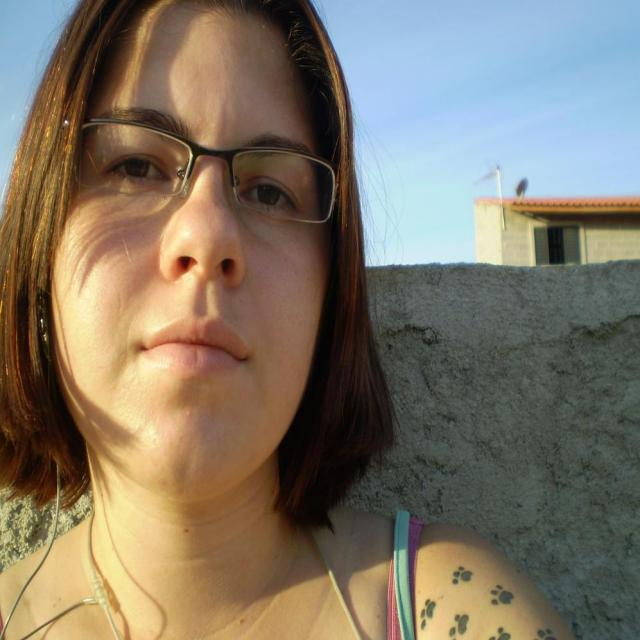no-glass: (106, 157, 302, 215)
